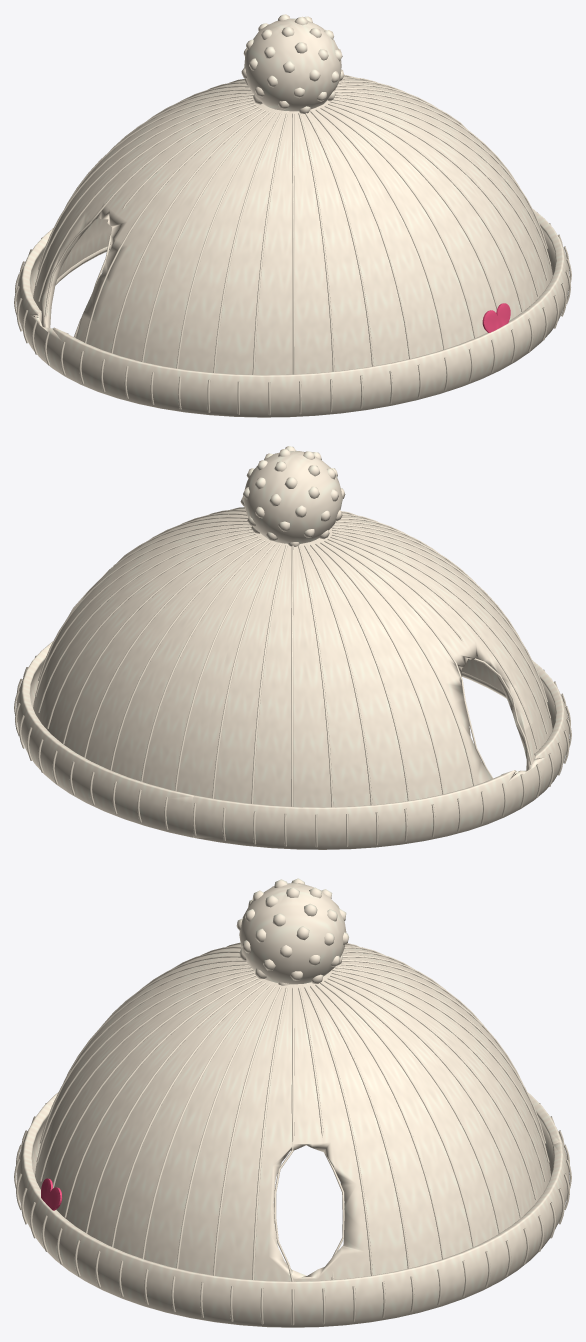
Rendered from restart_headfinish_beanie_cloud_bear.glb.
3 views of the same model, one above another, from view 1: azimuth 30°, elevation 25°; view 2: azimuth 150°, elevation 25°; view 3: azimuth 270°, elevation 25° (orthographic). The views are drawn at different scales.
Visible parts, largest first — view 1: Copa redondeada.001, Dobladillo tejido.001, Pompón.001, Punto tejido de la copa.077, Punto tejido de la copa.069, Punto tejido de la copa.071, Punto tejido de la copa.044, Punto tejido de la copa.045, Punto tejido de la copa.072, Punto tejido de la copa.068, Punto tejido de la copa.076, Punto tejido de la copa.078 (+15 smaller); view 2: Copa redondeada.001, Dobladillo tejido.001, Pompón.001, Punto tejido de la copa.063, Punto tejido de la copa.070, Punto tejido de la copa.068, Punto tejido de la copa.071, Punto tejido de la copa.056, Punto tejido de la copa.055, Punto tejido de la copa.057, Punto tejido de la copa.064, Punto tejido de la copa.072 (+14 smaller); view 3: Copa redondeada.001, Dobladillo tejido.001, Pompón.001, Punto tejido de la copa.049, Punto tejido de la copa.048, Punto tejido de la copa.052, Punto tejido de la copa.057, Punto tejido de la copa.043, Punto tejido de la copa.056, Punto tejido de la copa.058, Punto tejido de la copa.044, Punto tejido de la copa.055 (+14 smaller).
Boxes of the visible parts, x1,y1,x2,y2 form: Copa redondeada.001: (33,76,552,374); Dobladillo tejido.001: (16,209,569,417); Pompón.001: (244,18,341,111); Punto tejido de la copa.077: (292,113,294,374); Punto tejido de la copa.069: (44,104,255,317); Punto tejido de la copa.071: (84,108,261,343); Punto tejido de la copa.044: (328,103,523,311); Punto tejido de la copa.045: (330,100,538,296); Punto tejido de la copa.072: (111,109,265,353); Punto tejido de la copa.068: (38,101,253,301); Punto tejido de la copa.076: (252,113,287,374); Punto tejido de la copa.078: (298,112,334,371); Copa redondeada.001: (33,508,552,807); Dobladillo tejido.001: (16,641,569,849); Pompón.001: (243,450,342,543); Punto tejido de la copa.063: (291,545,293,806); Punto tejido de la copa.070: (327,538,532,764); Punto tejido de la copa.068: (320,542,474,785); Punto tejido de la copa.071: (330,536,538,749); Punto tejido de la copa.056: (62,535,257,744); Punto tejido de la copa.055: (47,533,255,728); Punto tejido de la copa.057: (84,537,261,757); Punto tejido de la copa.064: (298,545,333,807); Punto tejido de la copa.072: (332,533,547,733); Copa redondeada.001: (35,944,550,1281); Dobladillo tejido.001: (16,1092,569,1327); Pompón.001: (239,883,346,984); Punto tejido de la copa.049: (252,987,287,1279); Punto tejido de la copa.048: (213,987,281,1275); Punto tejido de la copa.052: (304,987,372,1275); Punto tejido de la copa.057: (327,977,521,1217); Punto tejido de la copa.043: (64,977,258,1217); Punto tejido de la copa.056: (324,980,500,1233); Punto tejido de la copa.058: (330,974,536,1199); Punto tejido de la copa.044: (85,980,261,1233); Punto tejido de la copa.055: (320,982,474,1246).
Size of the model in its own units: 0.8479 by 0.4802 by 0.7582.
Materials: 2 (2 with a texture image).
